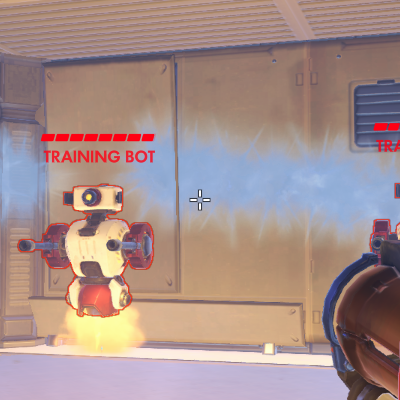hpbar: (40, 133, 156, 142), (373, 122, 400, 131)
